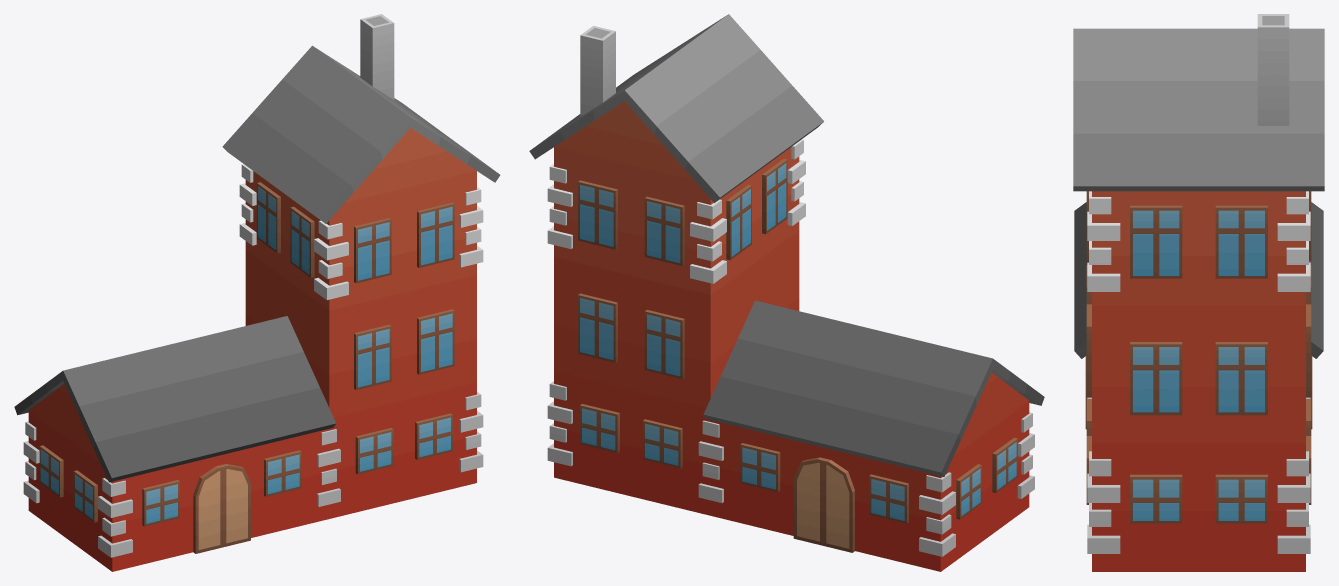
The model's file is village_house_5.glb.
3 renders of one model, left to right at view 1: azimuth 30°, elevation 25°; view 2: azimuth 150°, elevation 25°; view 3: azimuth 270°, elevation 25°, orthographic. The views are drawn at different scales.
Visible parts, largest first — view 1: village_house_5; view 2: village_house_5; view 3: village_house_5.
Boxes of the visible parts, x1,y1,x2,y2 form: village_house_5: [14, 14, 500, 571]; village_house_5: [529, 14, 1044, 571]; village_house_5: [1073, 14, 1324, 571].
Bounding box in the file's own units: 4.68 × 4.8 × 2.05.
Materials: 1 (1 with a texture image).
